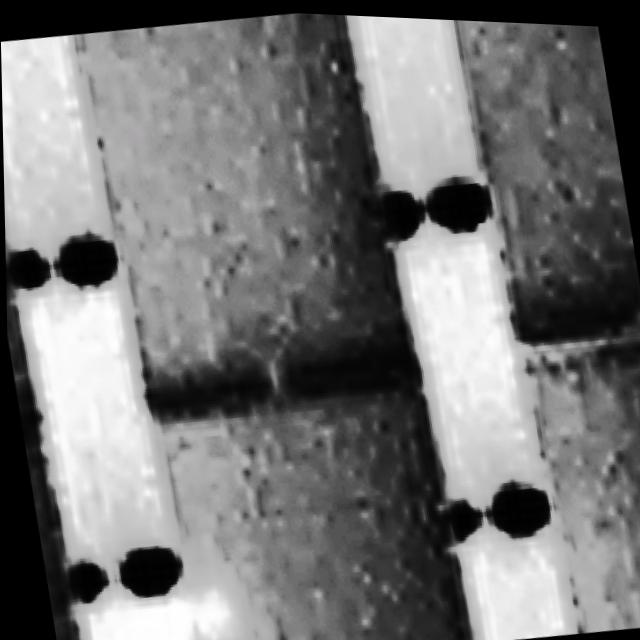Hotspots: (168, 539, 276, 640)
PV-modules: (73, 3, 420, 418), (134, 352, 479, 640), (460, 16, 640, 352), (532, 319, 640, 629), (20, 432, 82, 640), (4, 248, 40, 431)
